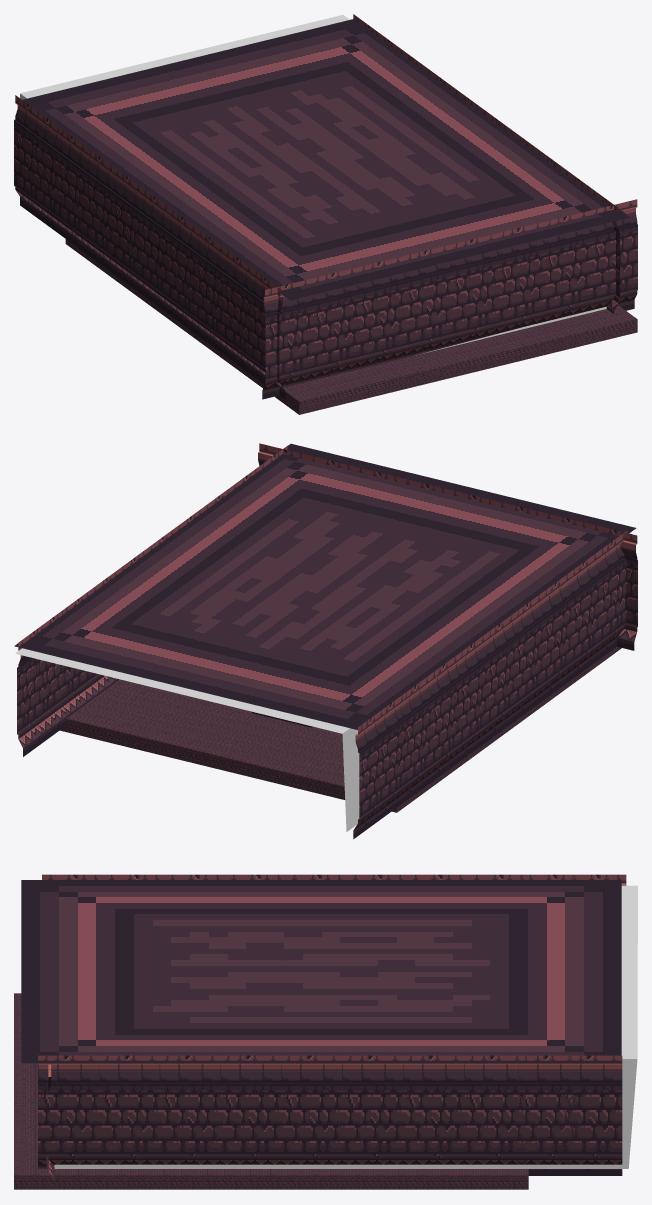
File: EndDungeonFix.glb
The picture shows the model from 3 angles, top to bottom: view 1: azimuth 30°, elevation 25°; view 2: azimuth 150°, elevation 25°; view 3: azimuth 270°, elevation 25°; orthographic projection. The views are drawn at different scales.
Visible parts, largest first — view 1: EndRoom, EndRoomColliosn.001; view 2: EndRoom, EndRoomColliosn.001; view 3: EndRoom, EndRoomColliosn.001.
Boxes of the visible parts, bbox=[...] form: EndRoom: bbox=[14, 14, 637, 414]; EndRoomColliosn.001: bbox=[20, 15, 606, 355]; EndRoom: bbox=[14, 443, 637, 839]; EndRoomColliosn.001: bbox=[15, 648, 359, 831]; EndRoom: bbox=[14, 874, 626, 1189]; EndRoomColliosn.001: bbox=[54, 885, 637, 1168].
Size of what is drawn, in the model's own units: 44.03 by 13.35 by 58.05.
Materials: 9 (9 with a texture image).
